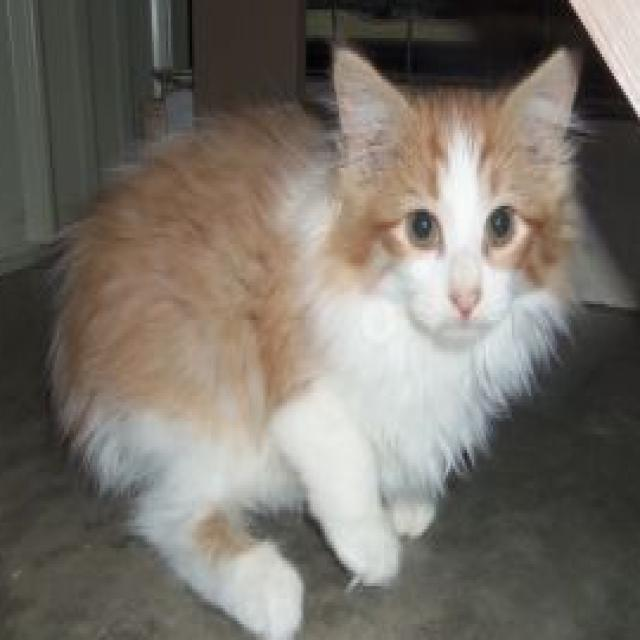Maine Coon: (45, 38, 586, 640)
